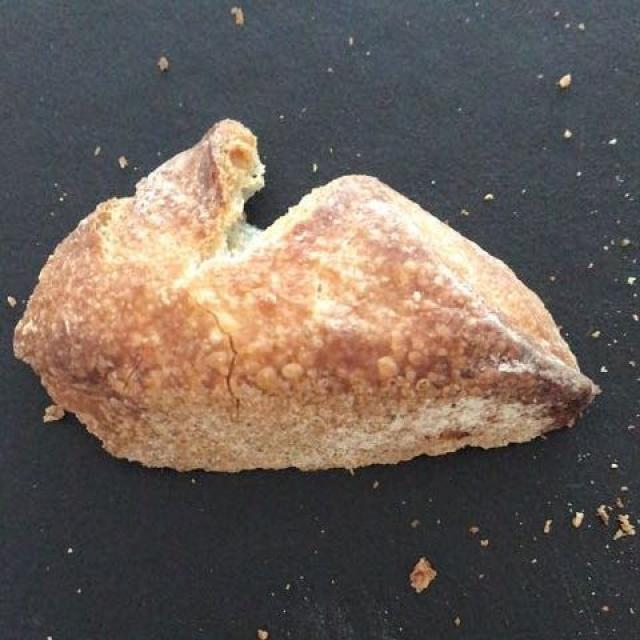bread: (22, 123, 582, 470)
